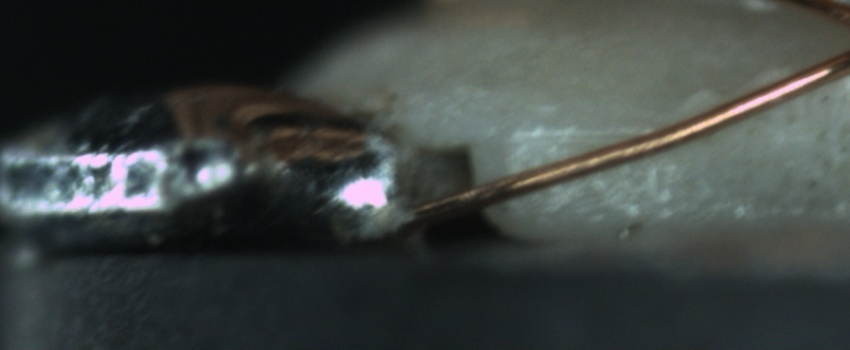DL: (519, 103, 666, 162)
